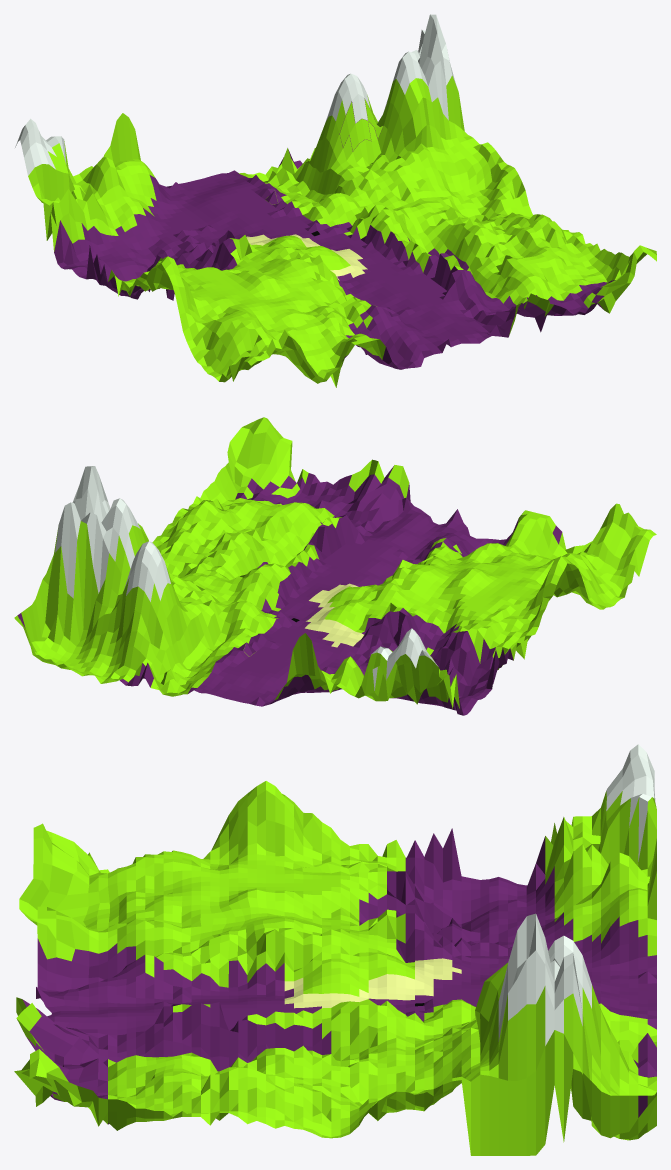
The model's file is land.fbx.
The picture shows the model from 3 angles, top to bottom: view 1: azimuth 30°, elevation 25°; view 2: azimuth 150°, elevation 25°; view 3: azimuth 270°, elevation 25°; orthographic projection. The views are drawn at different scales.
Parts seen in each view (by area): view 1: land; view 2: land; view 3: land.
Part boxes in pixels (x1,y1,x2,y2): land: (15, 14, 656, 387); land: (14, 417, 656, 715); land: (14, 744, 656, 1155).
Size of the model in its own units: 1024 by 418 by 1063.
